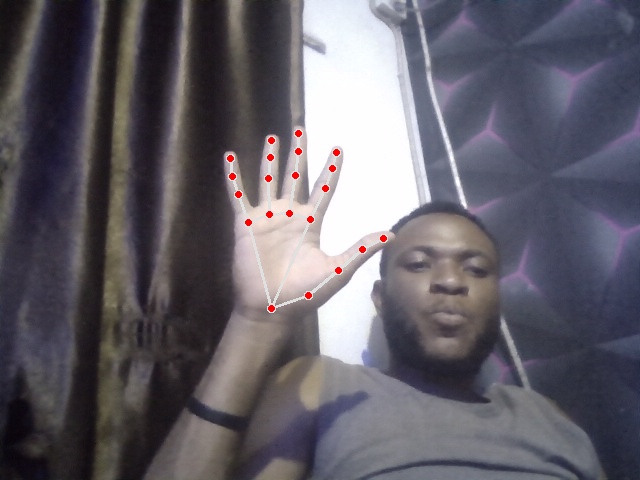no: (223, 124, 395, 316)
